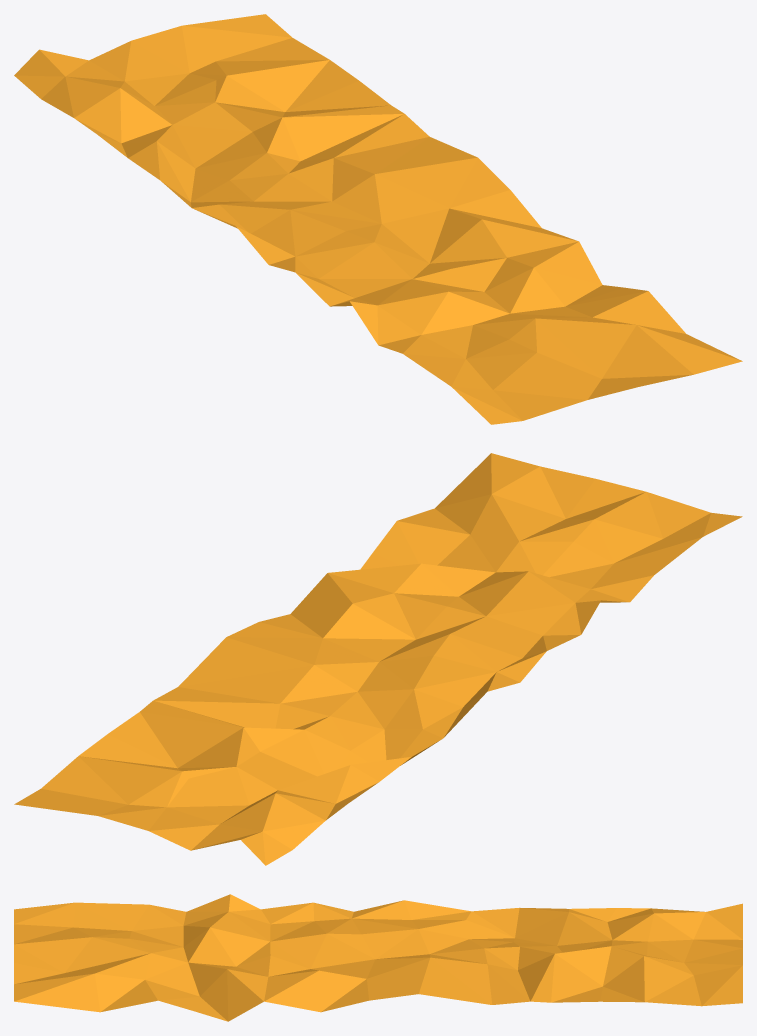
The model's file is SM_Planter_Box_Dirt_1x3m_Farm.fbx.
The picture shows the model from 3 angles, top to bottom: view 1: azimuth 30°, elevation 25°; view 2: azimuth 150°, elevation 25°; view 3: azimuth 270°, elevation 25°; orthographic projection. The views are drawn at different scales.
Visible parts, largest first — view 1: planter-box-dirt-1x3m-farm; view 2: planter-box-dirt-1x3m-farm; view 3: planter-box-dirt-1x3m-farm.
Part boxes in pixels (left/top/right/bottom): planter-box-dirt-1x3m-farm: left=14, top=14, right=742, bottom=424; planter-box-dirt-1x3m-farm: left=14, top=453, right=742, bottom=865; planter-box-dirt-1x3m-farm: left=14, top=894, right=742, bottom=1021.
Bounding box in the file's own units: 0.8871 × 0.1488 × 2.91.
